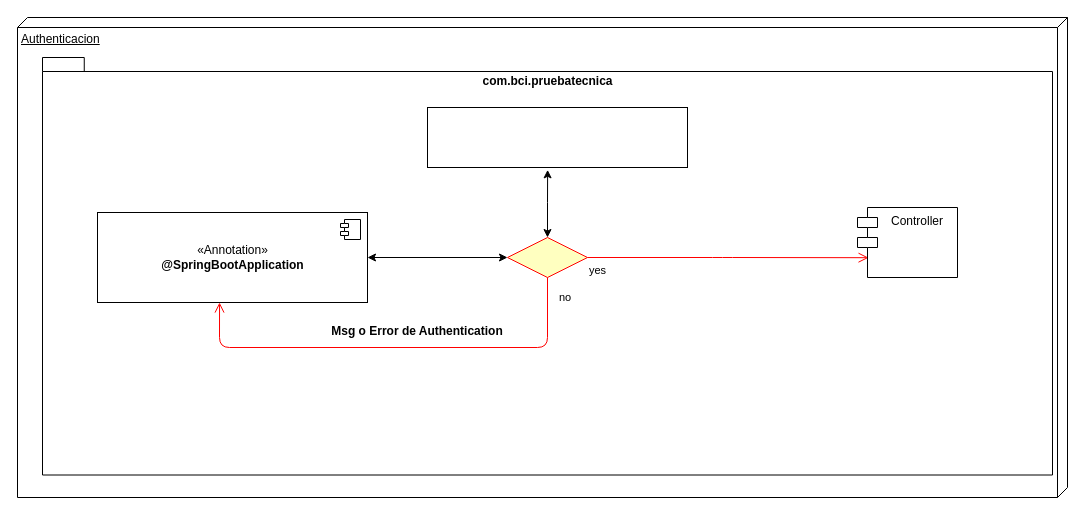
The diagram is 1085 pixels wide and 515 high, and some of its shapes have lost their labels. The shapes that lost their labels are listed below. From the top down, each one's centre as x and y in pixels, then its label:
At pixel 557 137: "JWTAuthorizationFilter".
At pixel 547 257: "Condition".
